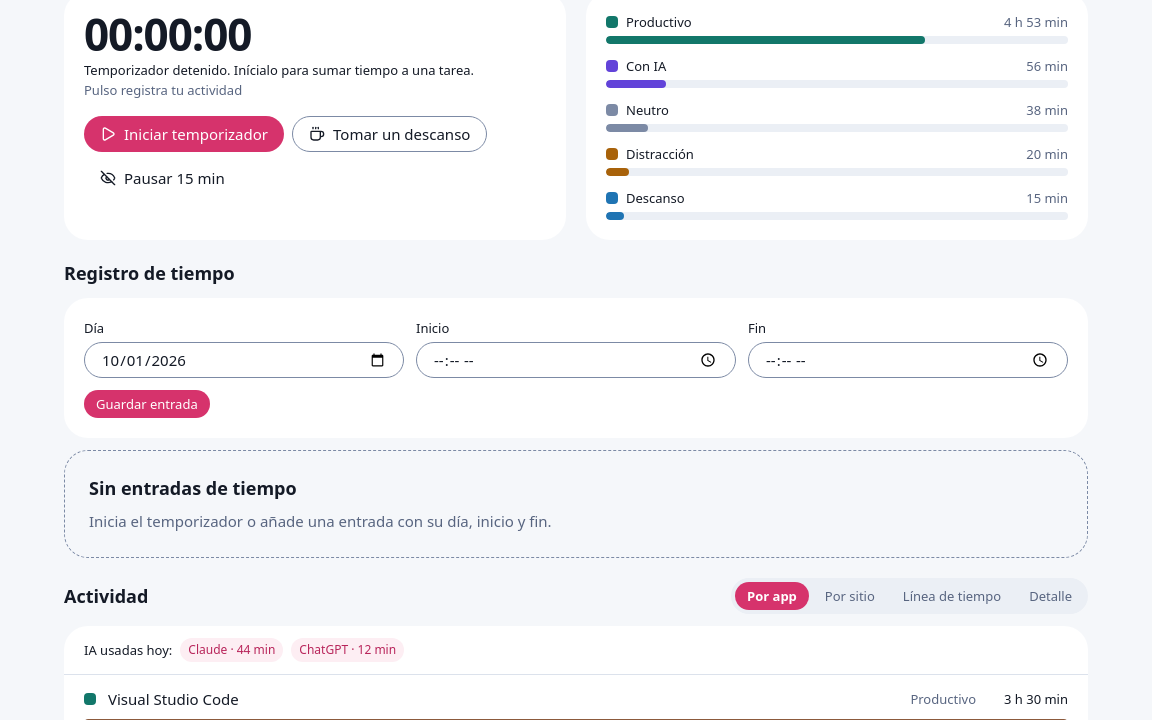
Test: Mi día › registro de tiempo › añade una entrada manual y la lista
(page scrolled)
Expected: the heading "Sin entradas de tiempo" is shown, [89,475,297,501]
Step 1. Type "09:00" into the time field labelled "Inicio" → point(576, 360), box [416,342,736,378]
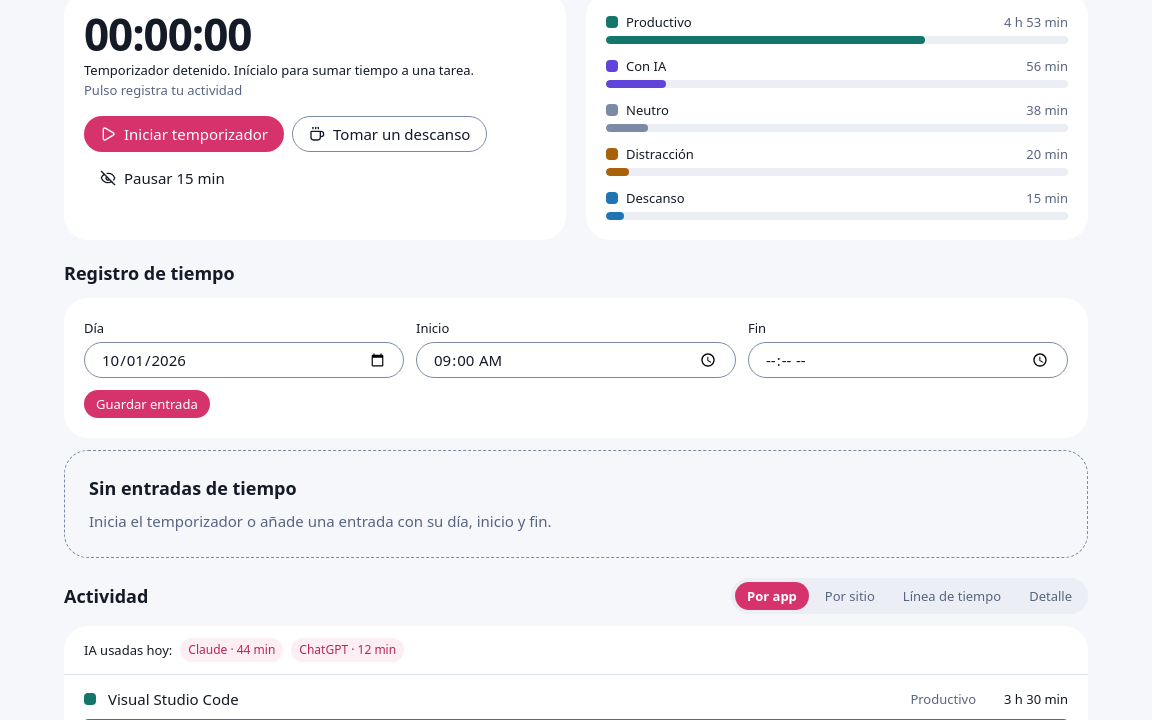
Step 2. Type "10:30" into the time field labelled "Fin" → point(908, 360), box [748,342,1068,378]
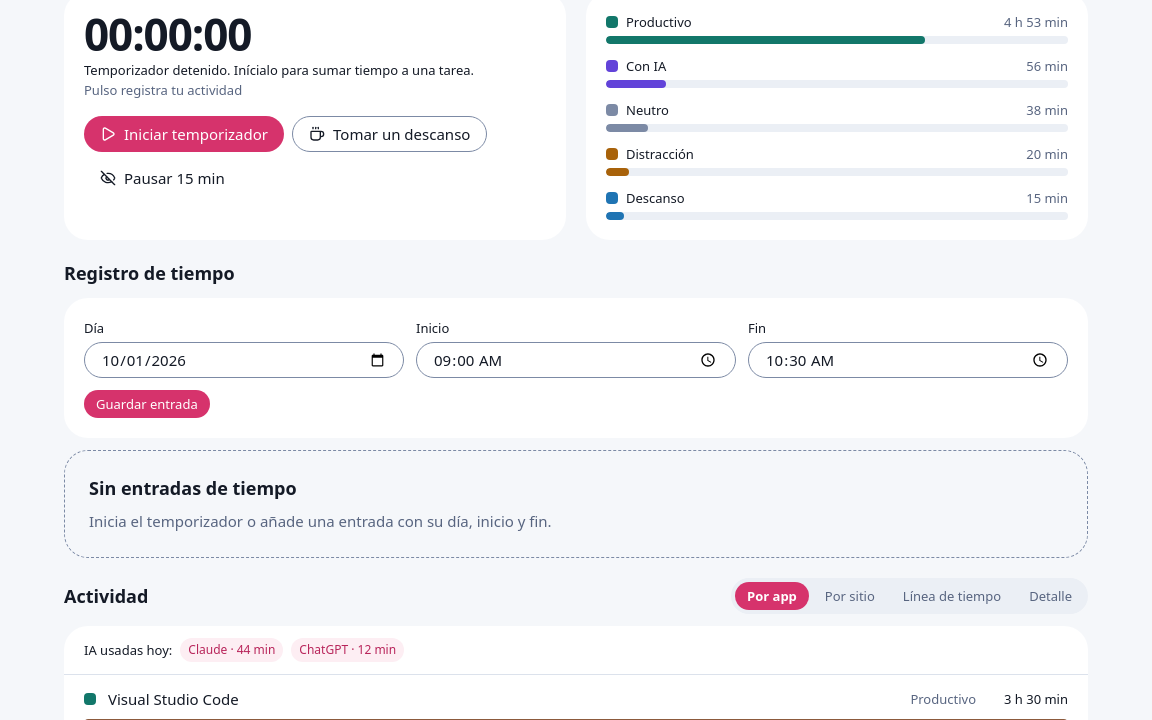
Step 3. Click the button "Guardar entrada" → point(147, 404), box [84,390,210,418]
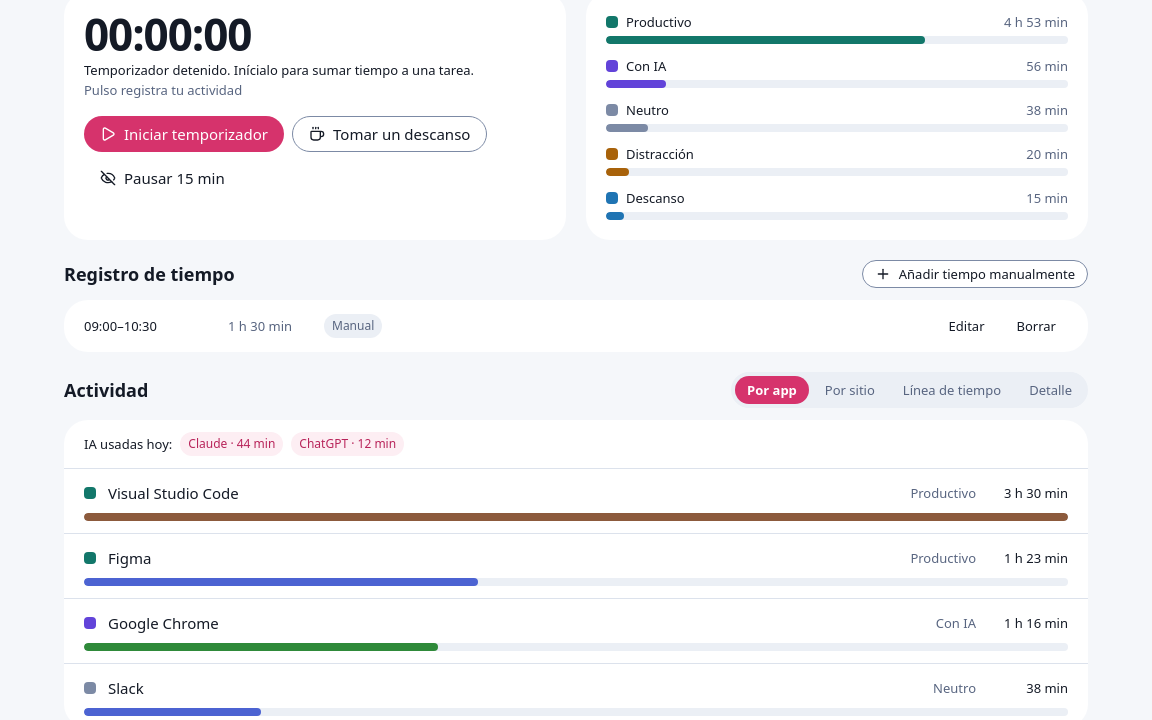
Expected: the text "09:00–10:30" is shown, [84,317,157,335]
Expected: the text "Manual" is shown, [324,314,382,338]
